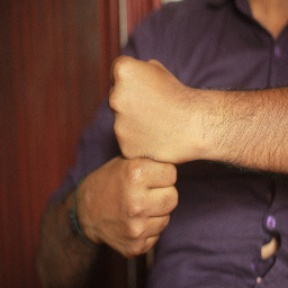G: (78, 48, 196, 262)
